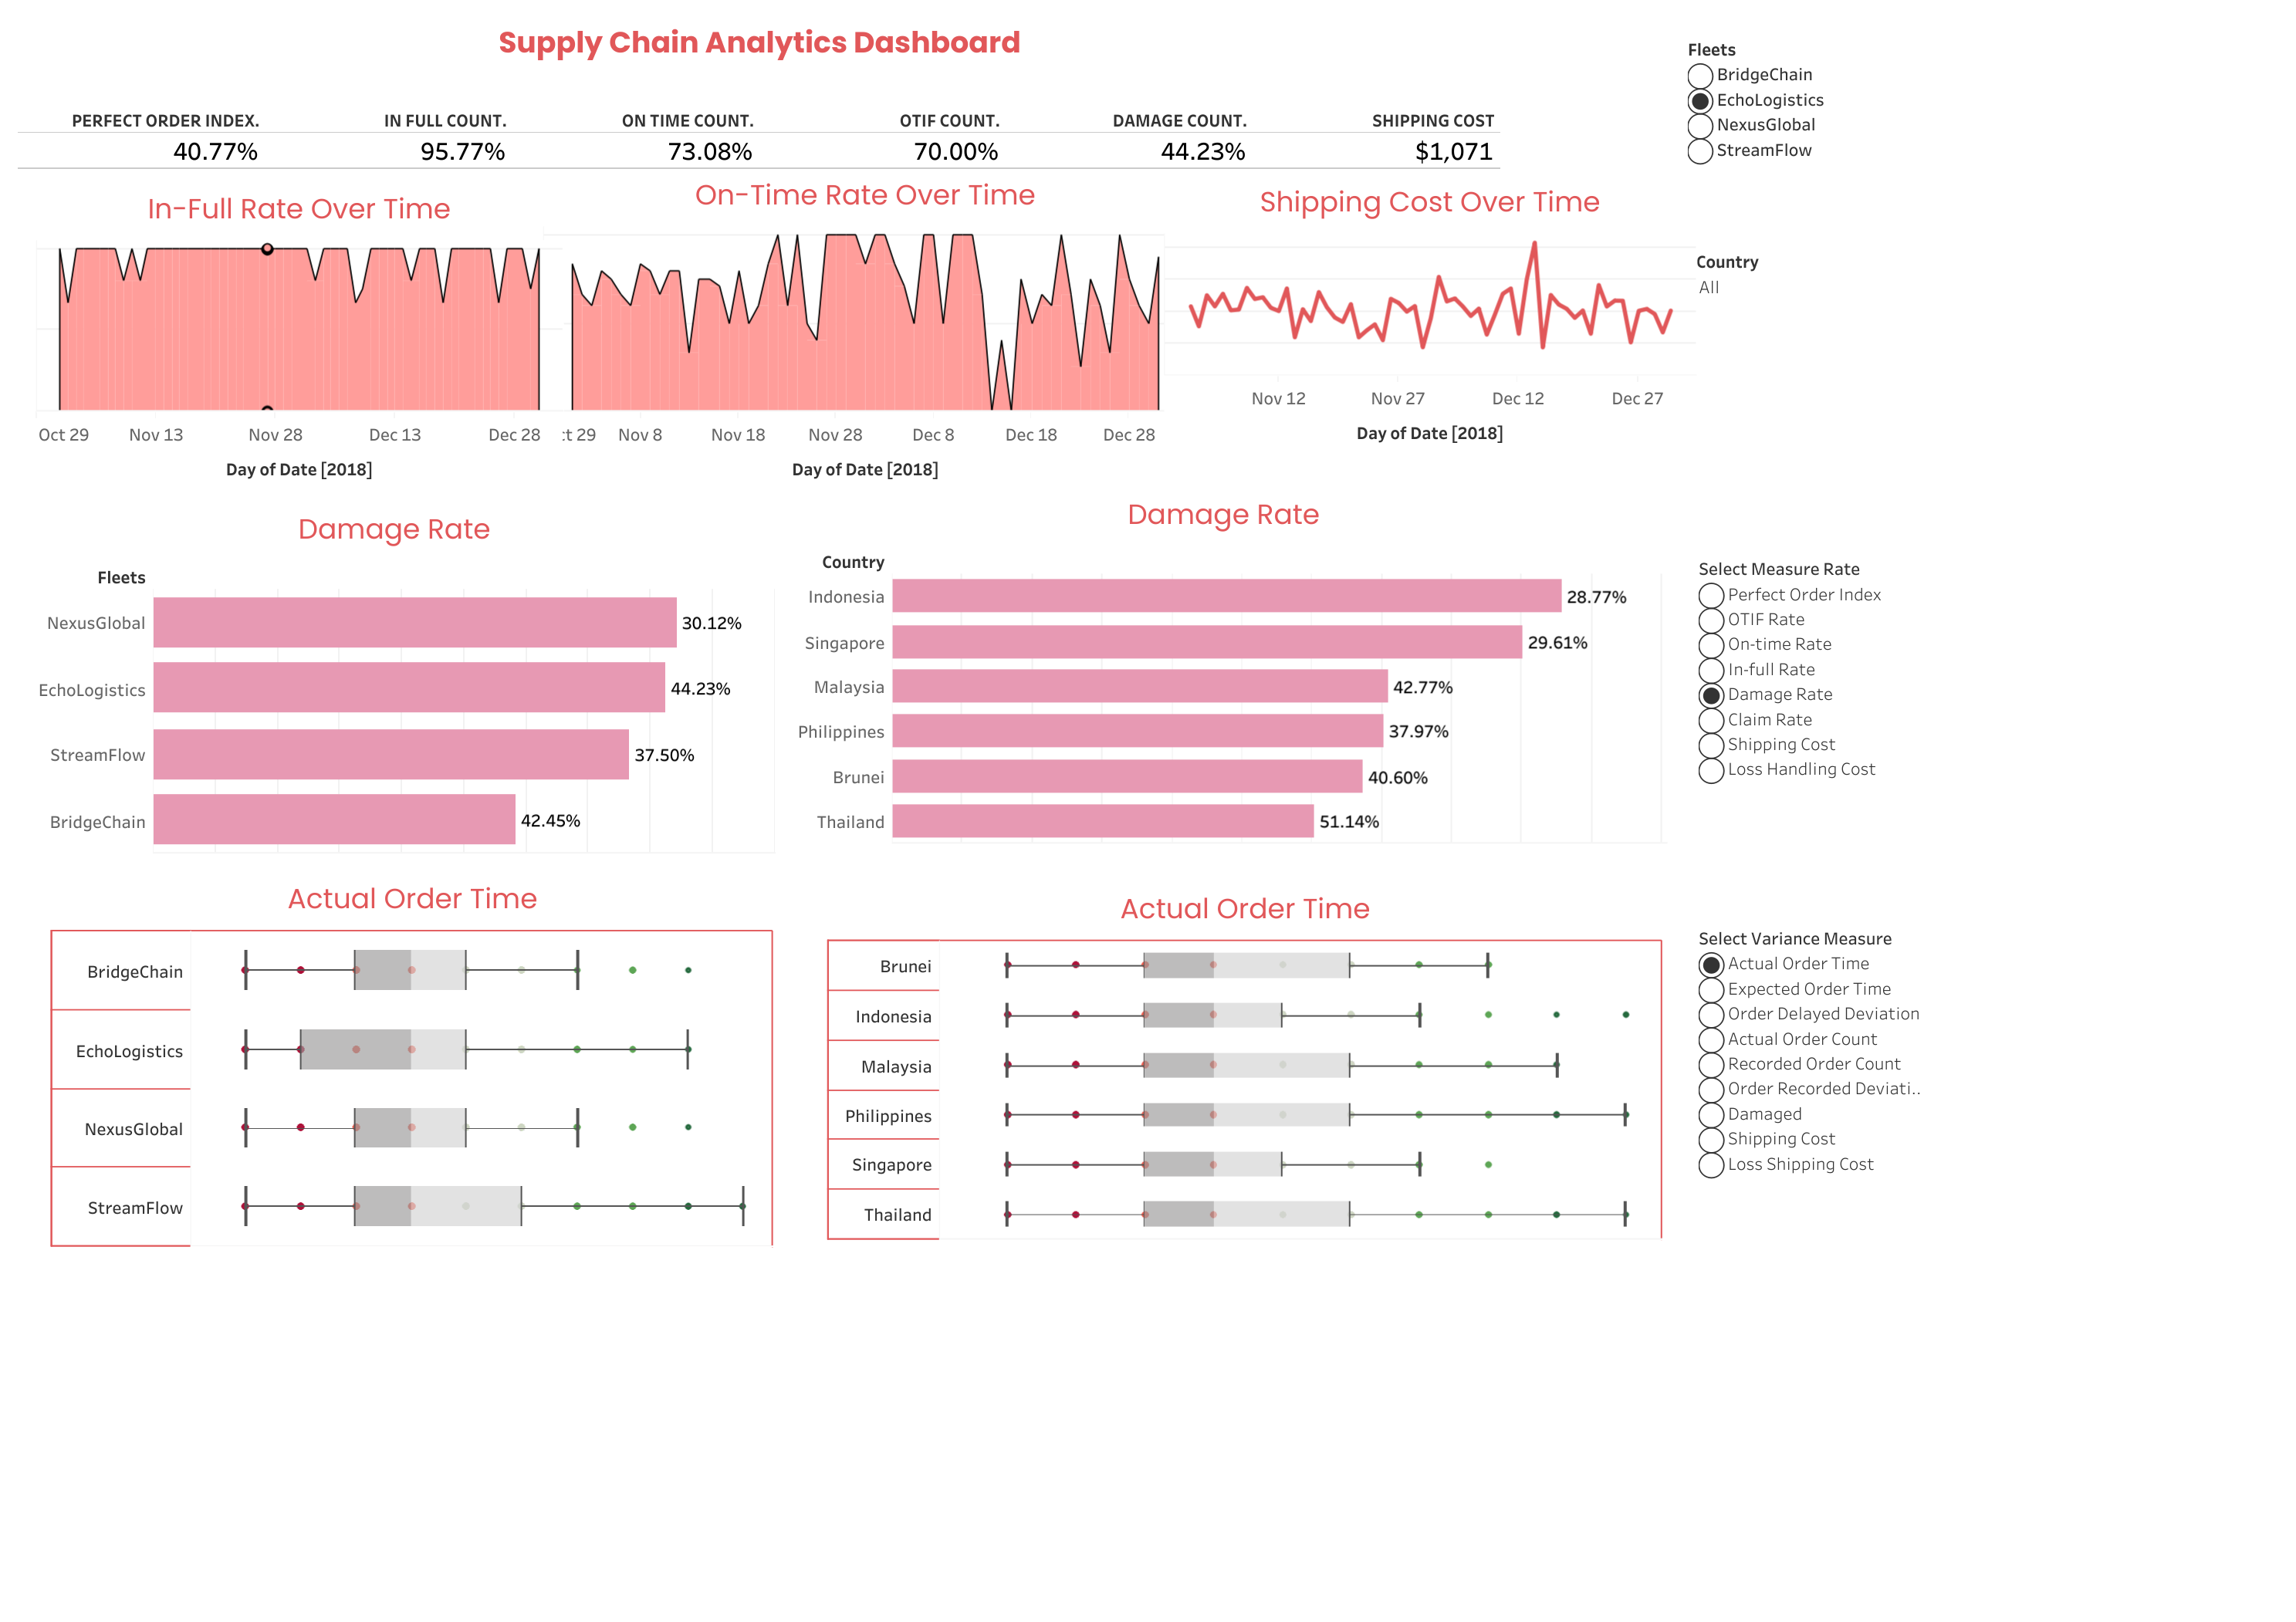

Layout of this report page (visuals, bound fields, positions):
{"tool":"tableau","page":{"name":"Dashboard 1","canvas":[1654,1169],"ordinal":0},"visuals":[{"type":"worksheet","title":"Sheet 1","mark":"Automatic","box":[13,9,1068,113]},{"type":"filter","title":"Sheet 1","param":"[federated.15b9nuz1b4klpc162f8hp1yo9bby].[none:Fleets:nk]","box":[1215,25,160,125]},{"type":"worksheet","title":"on time rate overtime","mark":"Area","rows":["Calculation_0001050615107652"],"cols":["Date"],"box":[391,120,464,233]},{"type":"worksheet","title":"shipping cost overtime","mark":"Line","rows":["Shipping Cost"],"cols":["Date"],"box":[838,125,383,202]},{"type":"worksheet","title":"in full rate overtime","mark":"Area","rows":["Calculation_0001050614399043"],"cols":["Date"],"box":[26,130,379,223]},{"type":"filter","title":"Sheet 1","param":"[federated.15b9nuz1b4klpc162f8hp1yo9bby].[none:Country:nk]","box":[1221,178,160,165]},{"type":"worksheet","title":"by country","mark":"Automatic","rows":["Country"],"cols":["Shipping Cost"],"box":[562,350,638,257]},{"type":"worksheet","title":"by fleets","mark":"Automatic","rows":["Fleets"],"cols":["Shipping Cost"],"box":[10,361,548,253]},{"type":"parameter","param":"[Parameters].[Parameter 1]","box":[1223,399,160,185]},{"type":"worksheet","title":"Variance by Fleets","mark":"Automatic","rows":["Fleets"],"cols":["Calculation_0014725923422394"],"box":[37,627,520,271]},{"type":"worksheet","title":"Variance by Country","mark":"Automatic","rows":["Country"],"cols":["Calculation_0014725923422394"],"box":[596,634,601,259]},{"type":"parameter","param":"[Parameters].[Parameter 2]","box":[1223,665,160,205]}]}

Visuals, with their boxes in screenshot pixels (x1, y1, x2, y2), scaled from the page's 1654x1169 canvas onto the 2296x1622 screenshot:
"Sheet 1" worksheet: bbox(18, 12, 1500, 169)
"Sheet 1" filter: bbox(1686, 35, 1909, 208)
"on time rate overtime" worksheet (Area marks): bbox(543, 167, 1187, 490)
"shipping cost overtime" worksheet (Line marks): bbox(1163, 174, 1695, 454)
"in full rate overtime" worksheet (Area marks): bbox(36, 181, 562, 490)
"Sheet 1" filter: bbox(1695, 247, 1917, 476)
"by country" worksheet: bbox(780, 485, 1665, 842)
"by fleets" worksheet: bbox(14, 501, 775, 852)
parameter: bbox(1698, 553, 1920, 810)
"Variance by Fleets" worksheet: bbox(52, 870, 773, 1246)
"Variance by Country" worksheet: bbox(827, 880, 1662, 1239)
parameter: bbox(1698, 923, 1920, 1207)
